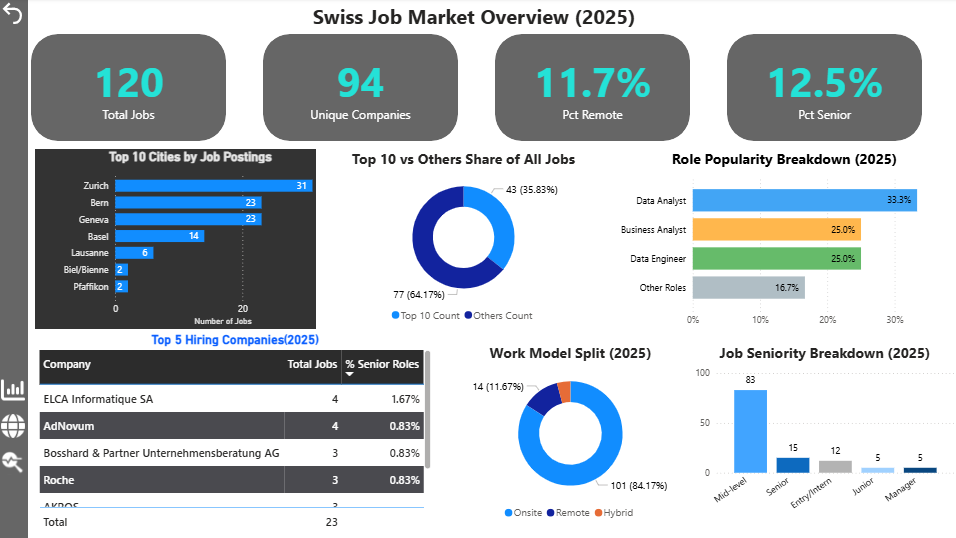

The page's visual inventory and layout, read from the dashboard file:
{"tool":"powerbi","page":{"name":"Overview","canvas":[1280,720],"ordinal":0},"visuals":[{"type":"barChart","title":"Top 10 Cities by Job Postings","fields":{"Category":["sj_cities.city"],"Y":["CountNonNull(jobs.job_id)"]},"box":[49.3,201.3,414.7,240],"z":0},{"type":"donutChart","title":"Top 10 vs Others Share of All Jobs","fields":{"Y":["Measures table.Top 10 Count","Measures table.Others Count"]},"box":[424,201.3,393.3,240],"z":1000},{"type":"tableEx","title":"Top 5 Hiring Companies(2025)","fields":{"Values":["sj_companies.company_clean","Measures table.Total Jobs","Measures table.Pct Senior at Company"]},"box":[49.3,445.3,533.3,274.7],"z":2000},{"type":"group","id":"g1","title":"Group 1","box":[44.3,48,1188,142.7],"z":3000},{"type":"donutChart","title":"Work Model Split (2025)","fields":{"Category":["jobs.remote_type"],"Y":["CountNonNull(jobs.job_id)"]},"box":[582.2,459.5,361,245.4],"z":4000},{"type":"textbox","box":[414.7,0,450.7,48],"z":5000},{"type":"clusteredColumnChart","title":"Job Seniority Breakdown (2025)","fields":{"Category":["jobs.seniority_level"],"Y":["CountNonNull(jobs.job_id)"]},"box":[923.3,460,356.7,245],"z":6000},{"type":"shape","box":[0,0,40,720],"z":7000},{"type":"shape","box":[44.3,48,260,142.7],"z":7000,"group":"g1"},{"type":"shape","box":[353.6,48,260,142.7],"z":8000,"group":"g1"},{"type":"actionButton","box":[0,502,42,40],"z":8000},{"type":"shape","box":[663,48,260,142.7],"z":9000,"group":"g1"},{"type":"actionButton","box":[0,501.9,39.4,40.7],"z":9000},{"type":"shape","box":[972.3,48,260,142.7],"z":10000,"group":"g1"},{"type":"actionButton","box":[0,550,40,40],"z":10000},{"type":"card","fields":{"Values":["Measures table.Total Jobs"]},"box":[44.3,48,260,142.7],"z":11000,"group":"g1"},{"type":"actionButton","box":[0,550,39,40],"z":11000},{"type":"card","fields":{"Values":["Measures table.Unique Companies"]},"box":[353.6,48,260,142.7],"z":12000,"group":"g1"},{"type":"actionButton","box":[0,600,39,39],"z":12000},{"type":"card","fields":{"Values":["Measures table.Pct Remote"]},"box":[663,48,260,142.7],"z":13000,"group":"g1"},{"type":"actionButton","box":[0,600,39,39],"z":13000},{"type":"actionButton","box":[0,0,38.7,40],"z":13001},{"type":"clusteredBarChart","title":"Role Popularity Breakdown (2025)","fields":{"Category":["jobs.Role Category"],"Y":["Measures table.Role Share %"]},"box":[817.7,201.2,462.3,245.4],"z":13002},{"type":"card","fields":{"Values":["Measures table.Pct Senior"]},"box":[972.3,48,260,142.7],"z":14000,"group":"g1"}]}

Visuals, with their boxes on the page's 1280x720 design canvas (x1, y1, x2, y2). These are canvas units, not pixel positions in the 956x538 screenshot, which may show the page scaled, cropped or inside an application window:
"Top 10 Cities by Job Postings" barChart: Rect(49, 201, 464, 441)
"Top 10 vs Others Share of All Jobs" donutChart: Rect(424, 201, 817, 441)
"Top 5 Hiring Companies(2025)" tableEx: Rect(49, 445, 583, 720)
"Group 1" group: Rect(44, 48, 1232, 191)
"Work Model Split (2025)" donutChart: Rect(582, 460, 943, 705)
textbox: Rect(415, 0, 865, 48)
"Job Seniority Breakdown (2025)" clusteredColumnChart: Rect(923, 460, 1280, 705)
shape: Rect(0, 0, 40, 720)
shape: Rect(44, 48, 304, 191)
shape: Rect(354, 48, 614, 191)
actionButton: Rect(0, 502, 42, 542)
shape: Rect(663, 48, 923, 191)
actionButton: Rect(0, 502, 39, 543)
shape: Rect(972, 48, 1232, 191)
actionButton: Rect(0, 550, 40, 590)
card - Measures table.Total Jobs: Rect(44, 48, 304, 191)
actionButton: Rect(0, 550, 39, 590)
card - Measures table.Unique Companies: Rect(354, 48, 614, 191)
actionButton: Rect(0, 600, 39, 639)
card - Measures table.Pct Remote: Rect(663, 48, 923, 191)
actionButton: Rect(0, 600, 39, 639)
actionButton: Rect(0, 0, 39, 40)
"Role Popularity Breakdown (2025)" clusteredBarChart: Rect(818, 201, 1280, 447)
card - Measures table.Pct Senior: Rect(972, 48, 1232, 191)
